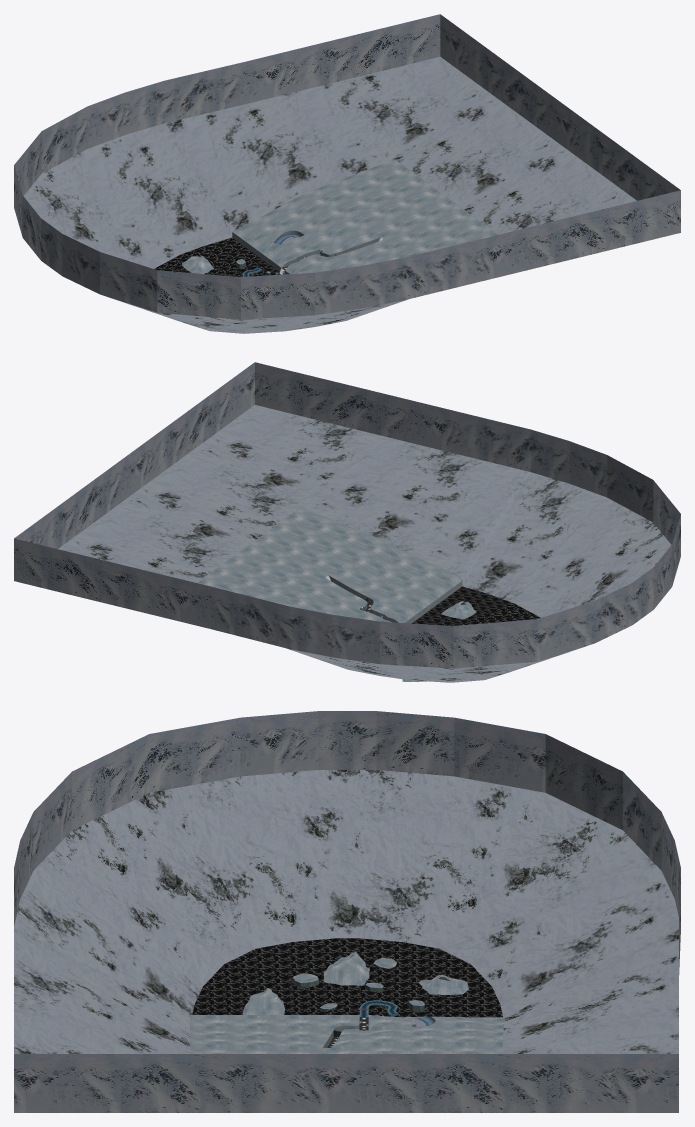
The picture shows the model from 3 angles, top to bottom: view 1: azimuth 30°, elevation 25°; view 2: azimuth 150°, elevation 25°; view 3: azimuth 270°, elevation 25°; orthographic projection. The views are drawn at different scales.
Parts seen in each view (by area): view 1: Cube.039, Cube.025, Cube.040, Cube.036, Cube.034; view 2: Cube.039, Cube.025, Cube.040, Cube.036, Cube.034; view 3: Cube.039, Cube.025, Cube.036, Cube.040.
Boxes of the visible parts, left/top/right/bottom form: Cube.039: left=23, top=56, right=636, bottom=333; Cube.025: left=14, top=14, right=680, bottom=319; Cube.040: left=182, top=159, right=497, bottom=273; Cube.036: left=154, top=237, right=279, bottom=276; Cube.034: left=232, top=230, right=380, bottom=274; Cube.039: left=58, top=405, right=671, bottom=682; Cube.025: left=14, top=362, right=680, bottom=668; Cube.040: left=197, top=507, right=476, bottom=681; Cube.036: left=412, top=586, right=540, bottom=625; Cube.034: left=329, top=575, right=462, bottom=623; Cube.039: left=14, top=770, right=678, bottom=1053; Cube.025: left=14, top=711, right=680, bottom=1112; Cube.036: left=192, top=938, right=502, bottom=1017; Cube.040: left=190, top=952, right=504, bottom=1053.
Bounding box in the file's own units: 335871 × 74777 × 276049.
16 materials, 16 textured.
